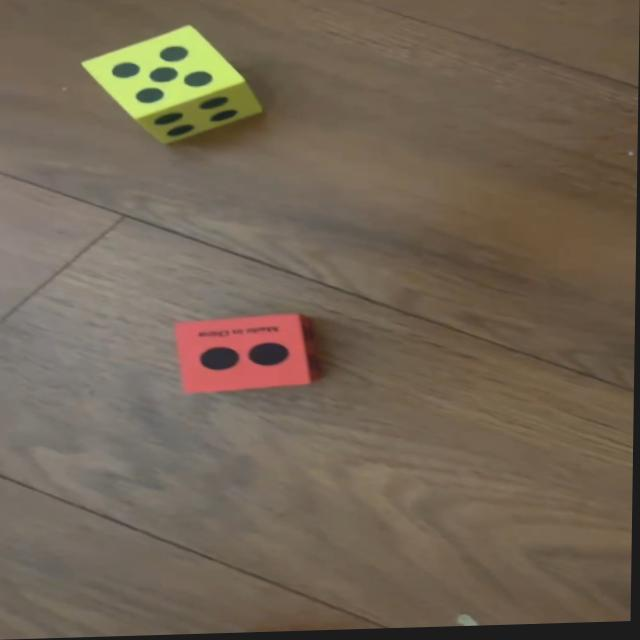cube: (173, 317, 316, 396)
